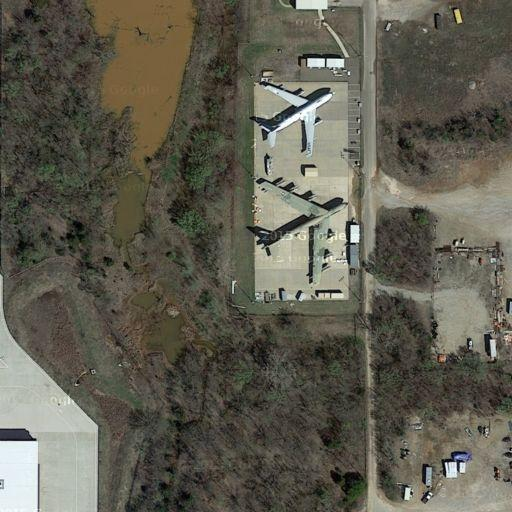B-52: (246, 174, 345, 286)
E-8: (255, 77, 333, 157)
